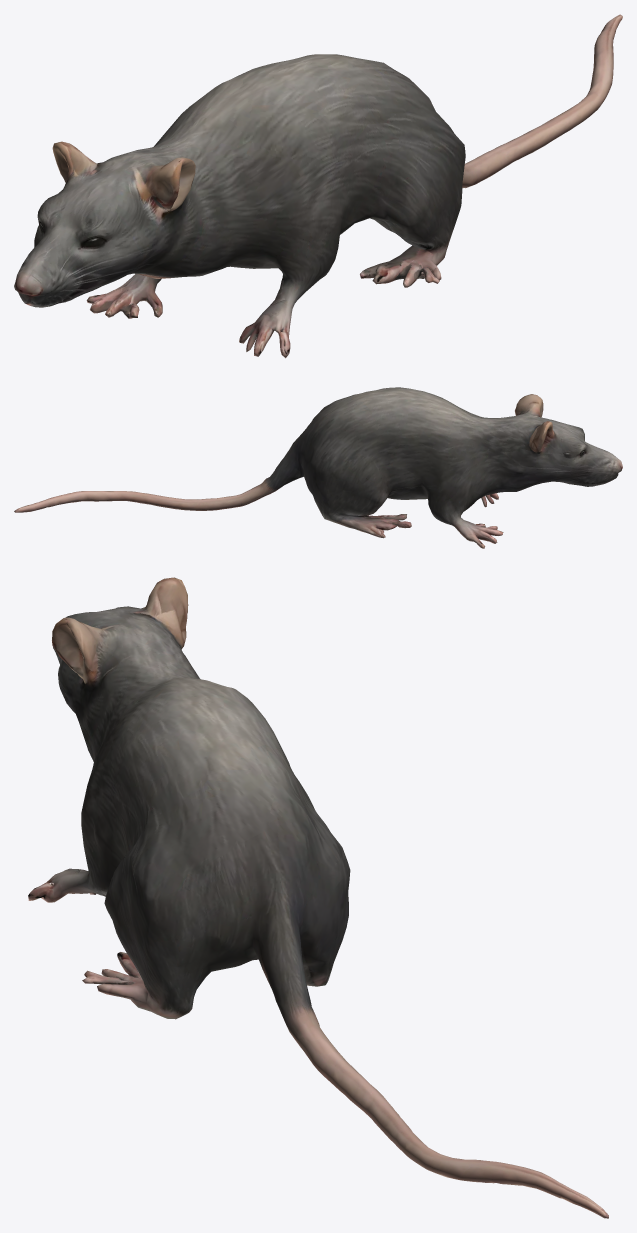
Rendered from beast-rat.glb.
The picture shows the model from 3 angles, top to bottom: view 1: azimuth 30°, elevation 25°; view 2: azimuth 150°, elevation 25°; view 3: azimuth 270°, elevation 25°; orthographic projection. The views are drawn at different scales.
Bounding box in the file's own units: 1.99 × 0.5042 × 1.06.
1 material, 1 textured.
